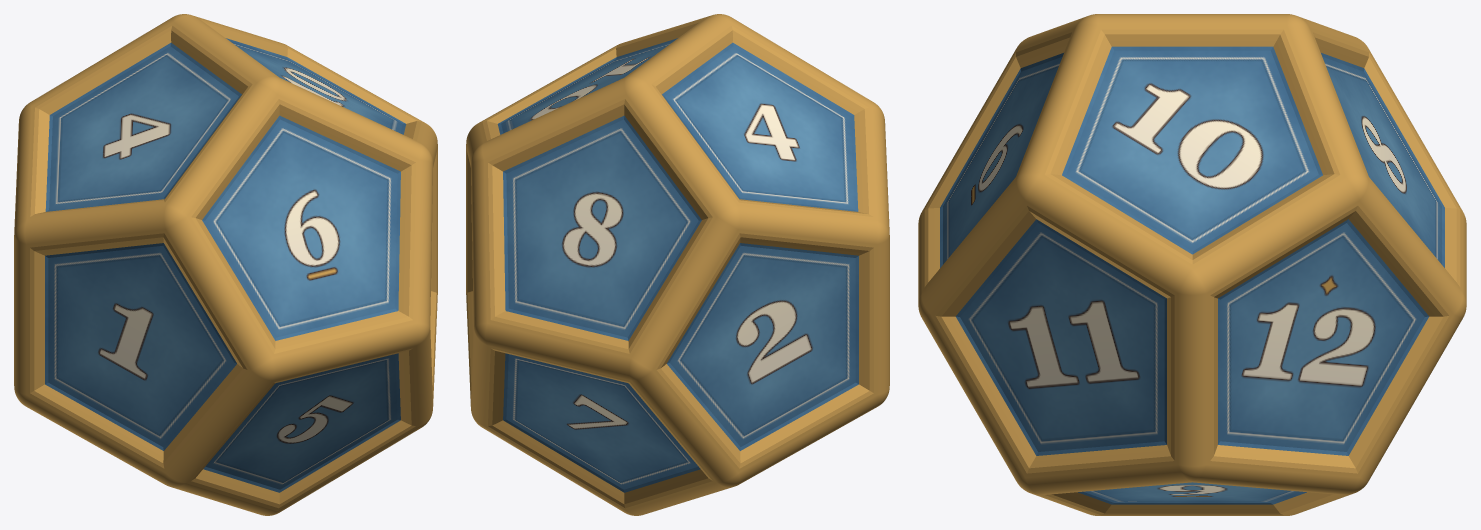
Rendered from d12_skin.glb.
The picture shows the model from 3 angles, left to right: view 1: azimuth 30°, elevation 25°; view 2: azimuth 150°, elevation 25°; view 3: azimuth 270°, elevation 25°; orthographic projection. The views are drawn at different scales.
Parts seen in each view (by area): view 1: D12 · sea-mist ceramic; view 2: D12 · sea-mist ceramic; view 3: D12 · sea-mist ceramic.
Part boxes in pixels (x1,y1,x2,y2): D12 · sea-mist ceramic: (14,14,437,515); D12 · sea-mist ceramic: (466,14,889,515); D12 · sea-mist ceramic: (918,14,1466,515).
Bounding box in the file's own units: 1.88 × 1.88 × 1.88.
Materials: 2 (1 with a texture image).
